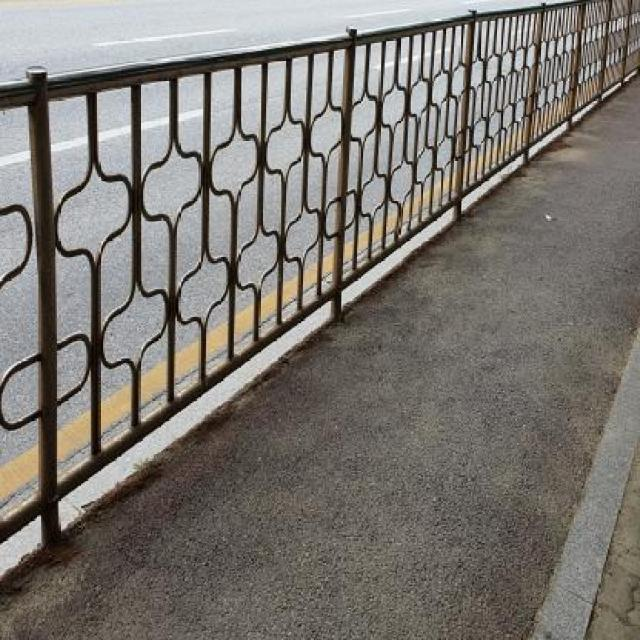fence: (0, 0, 531, 559)
